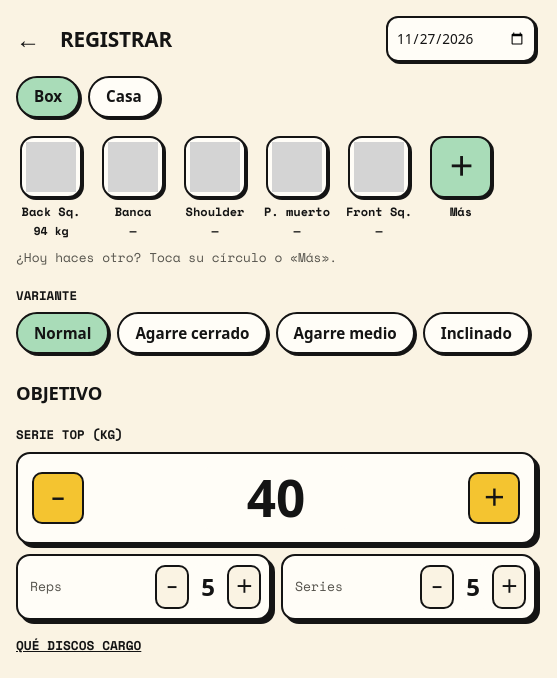
Test: el ejercicio se elige tocando su tarjeta
This screenshot has width=557, height=678.
Click the button with aria-label "Back Squat" at {"x": 51, "y": 187}, box [16,136,86,239]
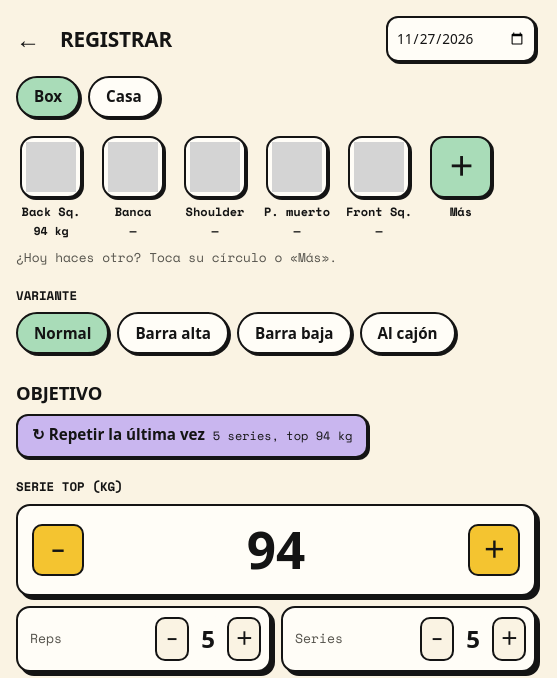
Check: the field named "Serie top (kg)" holds "94", box [201,518,351,582]
